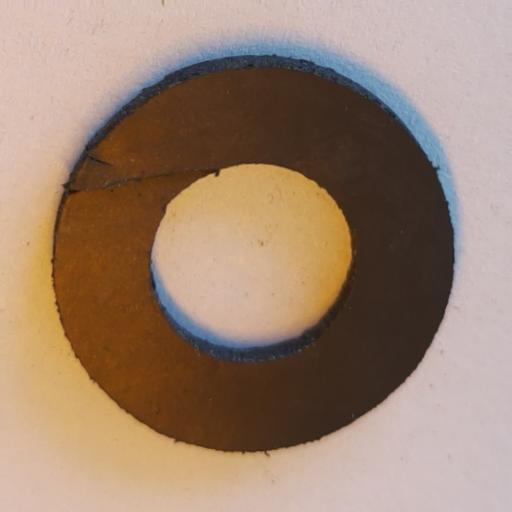defect: (65, 154, 220, 199)
